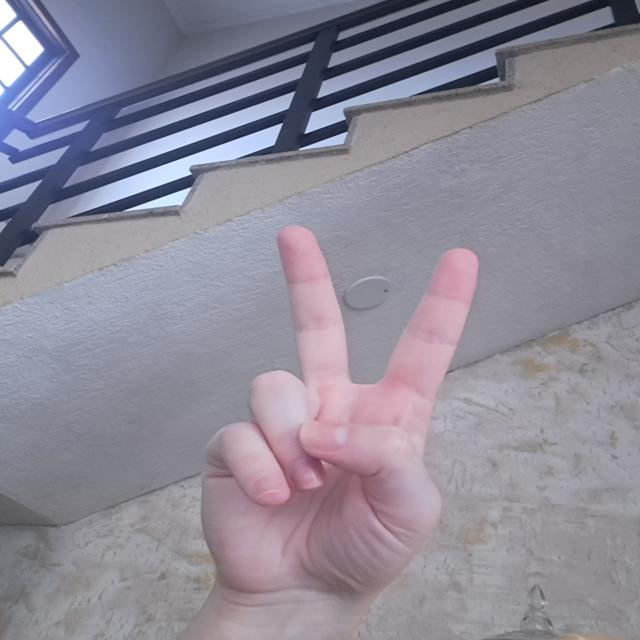V: (194, 219, 494, 606)
